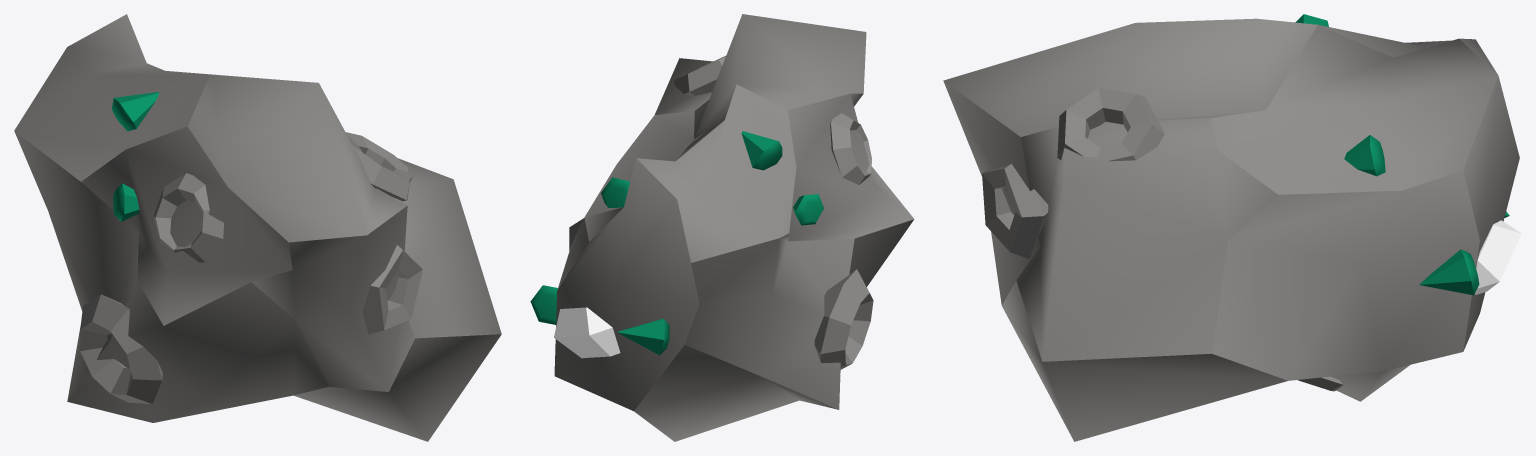
The model's file is Asteroid_V04.fbx.
3 renders of one model, left to right at view 1: azimuth 30°, elevation 25°; view 2: azimuth 150°, elevation 25°; view 3: azimuth 270°, elevation 25°, orthographic. The views are drawn at different scales.
Parts seen in each view (by area): view 1: pPlatonic1, pTorus6, pTorus1, pTorus5, pTorus2, pCone5, pCone4; view 2: pPlatonic1, pTorus6, pTorus3, pTorus5, pCone8, pTorus2, pCone5, pCone7, pCone4, pCone3; view 3: pPlatonic1, pTorus2, pTorus1, pTorus3, pCone7, pCone3.
Boxes of the visible parts, x1=… form: pPlatonic1: x1=14, y1=14, x2=501, y2=441; pTorus6: x1=80, y1=294, x2=162, y2=403; pTorus1: x1=362, y1=245, x2=422, y2=334; pTorus5: x1=153, y1=173, x2=223, y2=262; pTorus2: x1=345, y1=132, x2=412, y2=201; pCone5: x1=112, y1=92, x2=159, y2=131; pCone4: x1=113, y1=183, x2=139, y2=221; pPlatonic1: x1=554, y1=14, x2=914, y2=441; pTorus6: x1=814, y1=269, x2=873, y2=369; pTorus3: x1=554, y1=307, x2=620, y2=358; pTorus5: x1=830, y1=113, x2=871, y2=184; pCone8: x1=617, y1=318, x2=669, y2=355; pTorus2: x1=674, y1=56, x2=725, y2=95; pCone5: x1=741, y1=131, x2=782, y2=170; pCone7: x1=530, y1=285, x2=557, y2=324; pCone4: x1=793, y1=194, x2=823, y2=225; pCone3: x1=601, y1=177, x2=629, y2=207; pPlatonic1: x1=943, y1=18, x2=1519, y2=441; pTorus2: x1=1057, y1=87, x2=1164, y2=161; pTorus1: x1=982, y1=164, x2=1048, y2=258; pTorus3: x1=1475, y1=220, x2=1521, y2=294; pCone7: x1=1419, y1=249, x2=1479, y2=295; pCone3: x1=1344, y1=135, x2=1385, y2=176.
Bounding box in the file's own units: 10.6 × 11.58 × 15.32.
